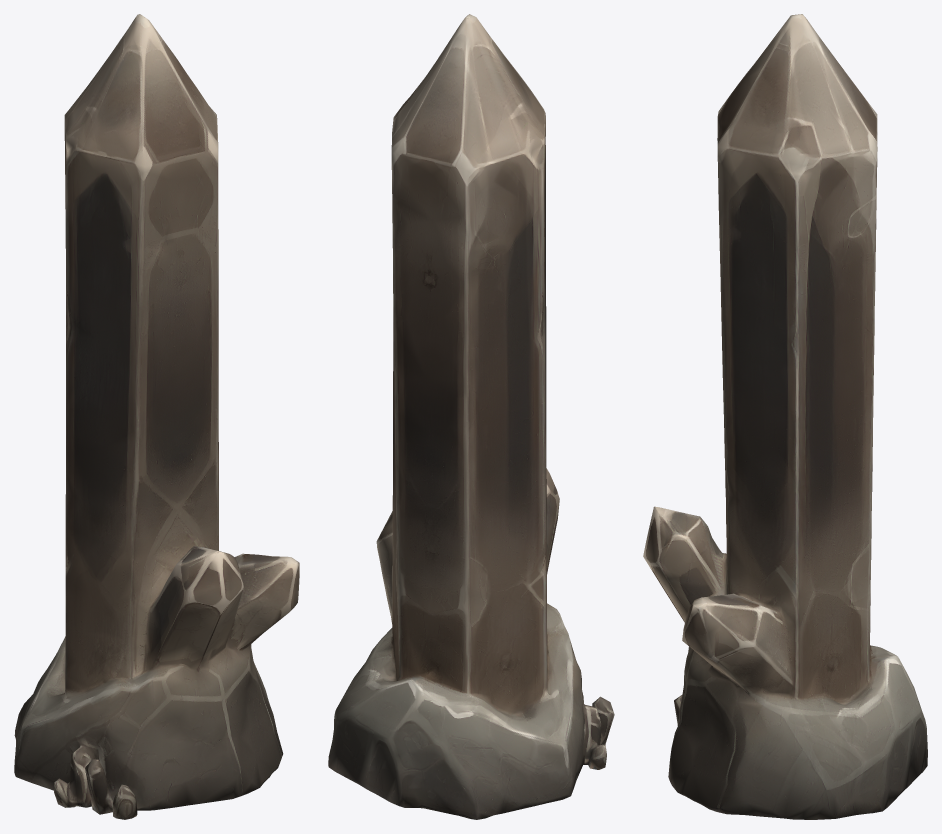
3 views of the same model, side by side, from view 1: azimuth 30°, elevation 25°; view 2: azimuth 150°, elevation 25°; view 3: azimuth 270°, elevation 25° (orthographic).
Visible parts, largest first — view 1: Mesh_0; view 2: Mesh_0; view 3: Mesh_0.
Part boxes in pixels (x1=…): Mesh_0: x1=14, y1=14, x2=299, y2=819; Mesh_0: x1=328, y1=14, x2=614, y2=819; Mesh_0: x1=643, y1=14, x2=927, y2=819.
Bounding box in the file's own units: 0.618 × 1.91 × 0.6567.
1 material, 1 textured.
